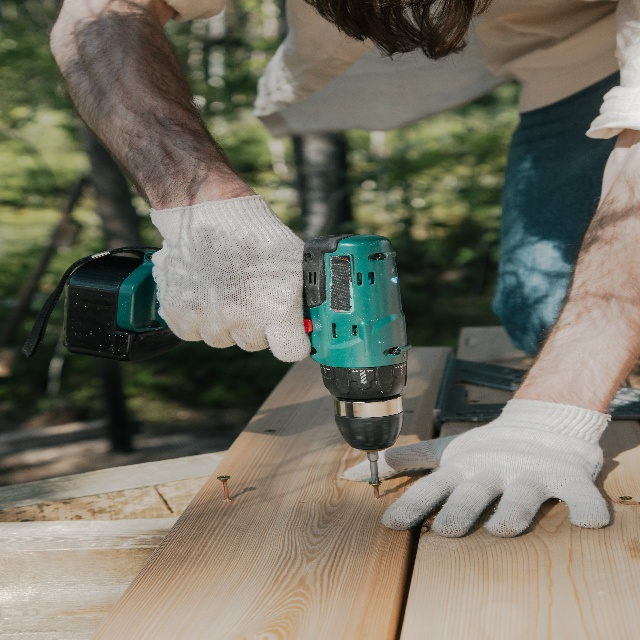Guantes: (339, 391, 619, 535), (150, 202, 310, 353)
